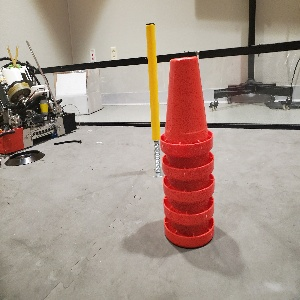Red_5: (158, 57, 215, 248)
